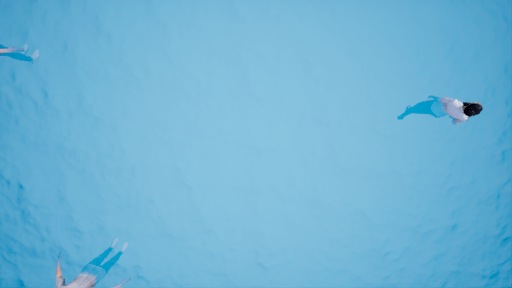person: (400, 92, 487, 132)
